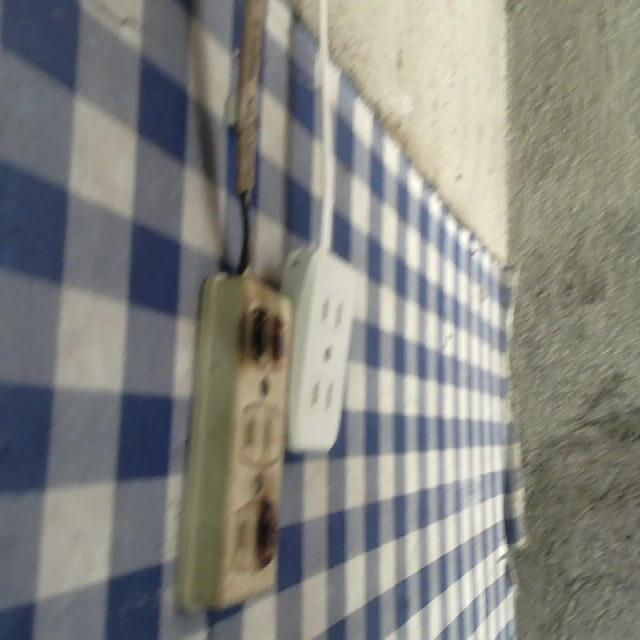-: (237, 304, 289, 367), (257, 492, 280, 577)
